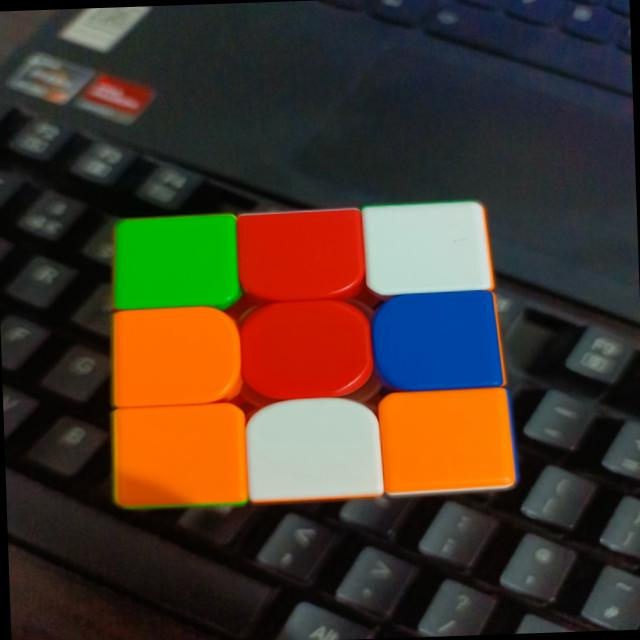rubik: (100, 198, 518, 511)
